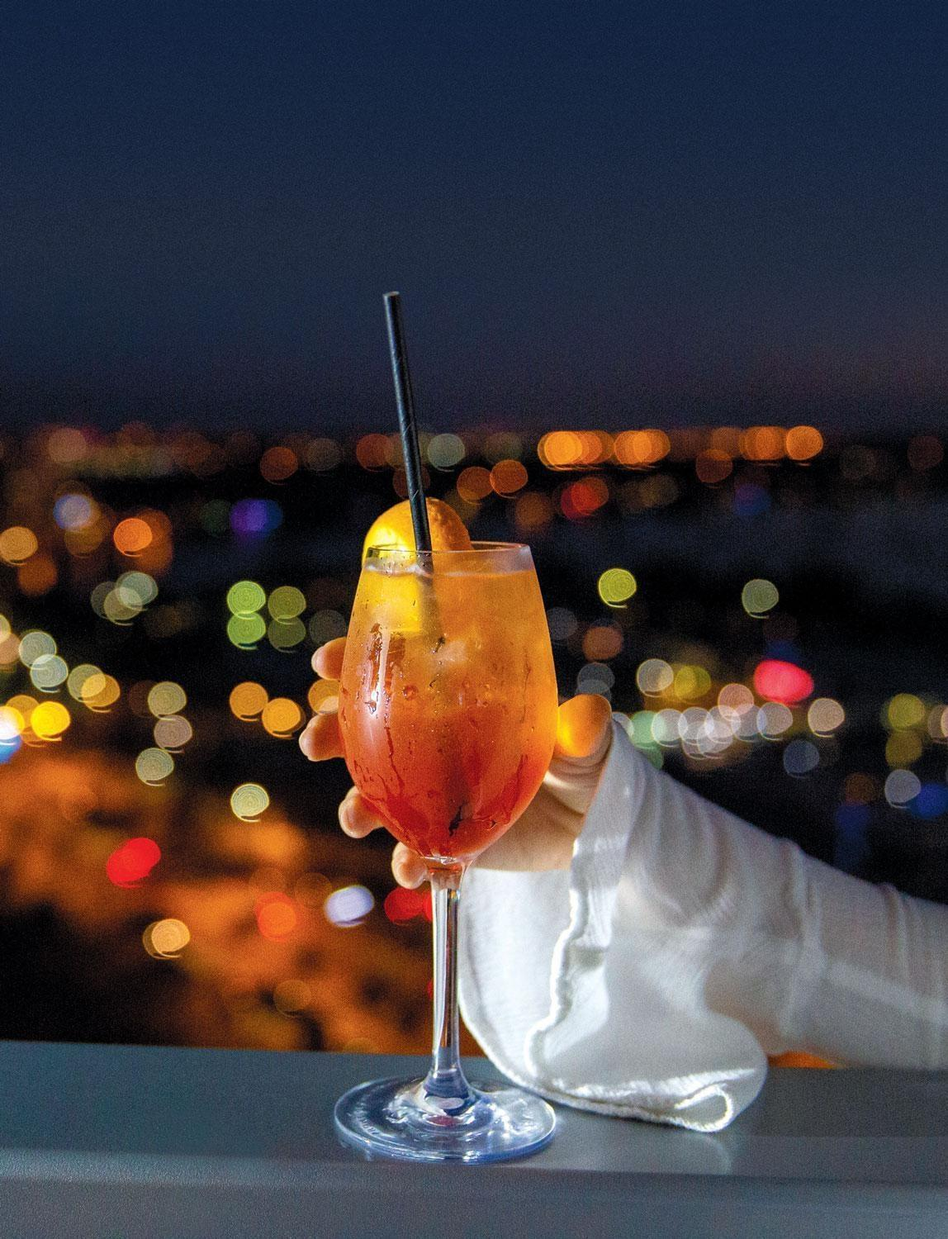glass-wine: (334, 539, 564, 1164)
